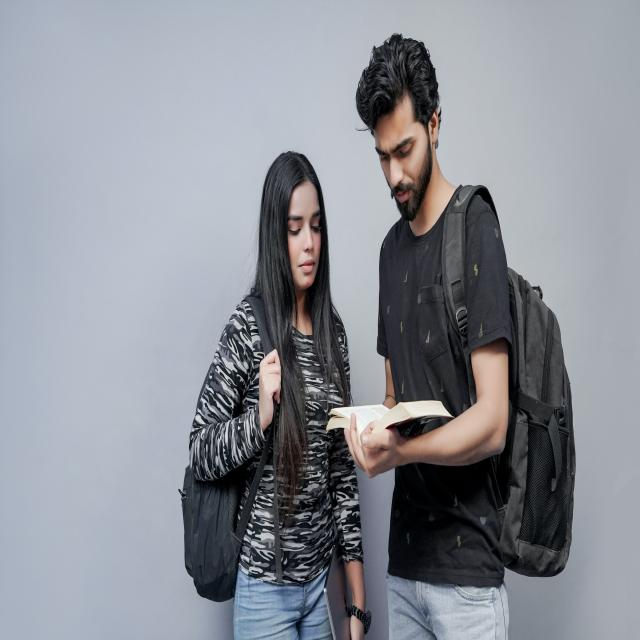backpack: (442, 182, 575, 570), (181, 294, 277, 600)
